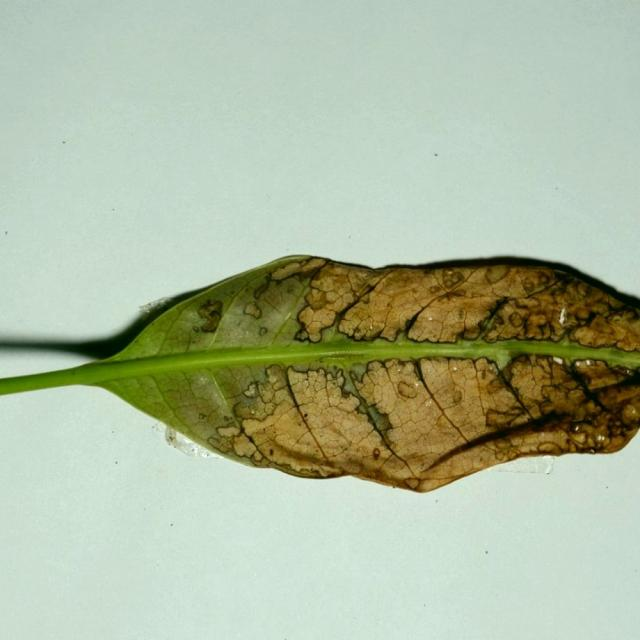Anthracnose: (404, 357, 499, 450), (354, 359, 427, 435), (498, 356, 579, 418), (280, 364, 360, 424), (242, 436, 344, 478), (560, 398, 634, 452), (452, 266, 557, 303), (230, 363, 293, 424), (410, 297, 486, 343), (563, 308, 639, 350), (566, 357, 635, 395), (287, 305, 339, 345), (248, 285, 295, 325), (226, 431, 263, 462), (267, 259, 316, 281), (194, 401, 226, 426), (305, 288, 330, 310), (351, 323, 379, 341), (199, 312, 221, 333), (441, 270, 464, 290), (215, 424, 241, 441), (252, 279, 272, 301), (485, 376, 508, 394), (379, 325, 402, 342), (202, 299, 223, 316), (441, 290, 466, 304), (243, 301, 262, 319), (536, 441, 562, 454), (404, 478, 420, 490), (266, 370, 278, 384), (612, 315, 628, 325), (358, 293, 371, 305), (428, 285, 443, 294), (632, 404, 640, 419), (166, 431, 175, 444), (258, 326, 268, 336), (480, 368, 488, 380), (300, 376, 309, 386), (286, 286, 294, 295), (192, 325, 200, 333), (198, 412, 207, 419)
Mango: (0, 255, 639, 497)
